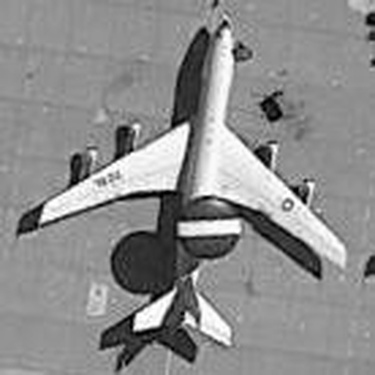airplane: (31, 12, 356, 359)
